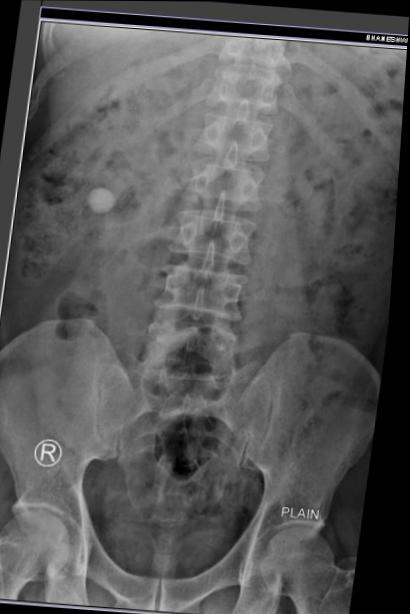vertebrae: (182, 80, 264, 154)
